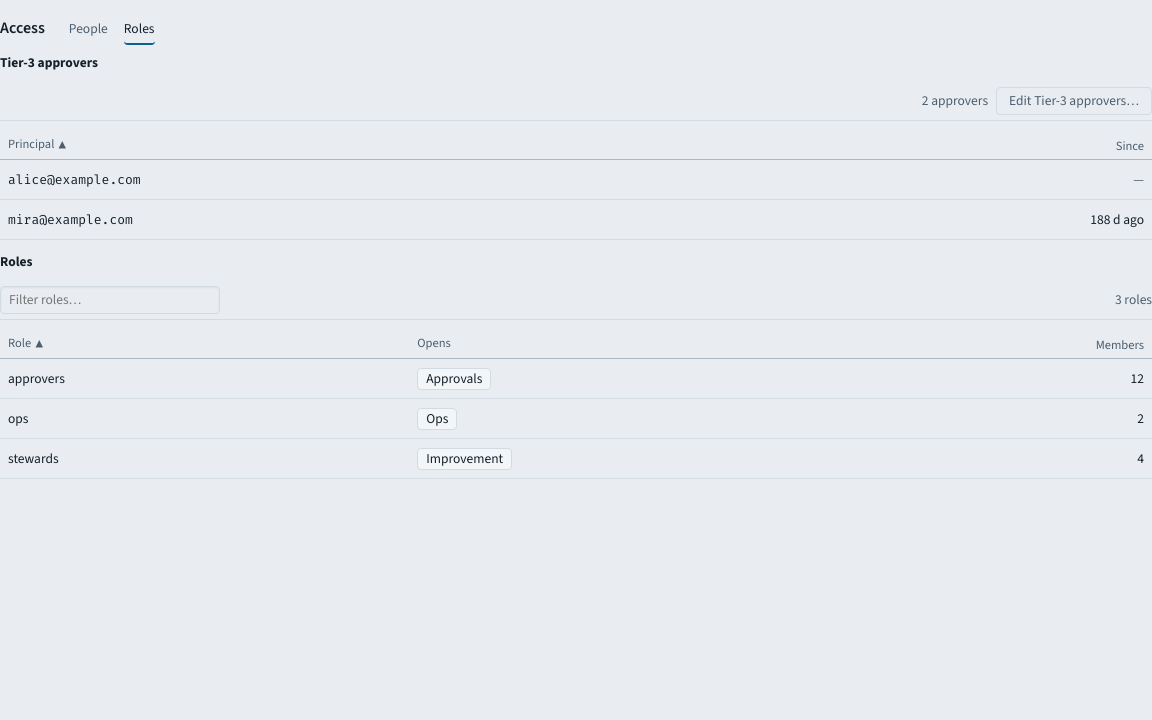
Scenario: §15 — the governed writes › renders pending only after the authoritative Tier-3 reread serves it
The image size is (1152, 720).
Expected: the element "Tier-3 approvers" is shown, [0,53,1151,240]
Expected: the text "PENDING" is not shown
Click the button "Edit Tier-3 approvers…" at (1074,100), box [996,86,1151,114]
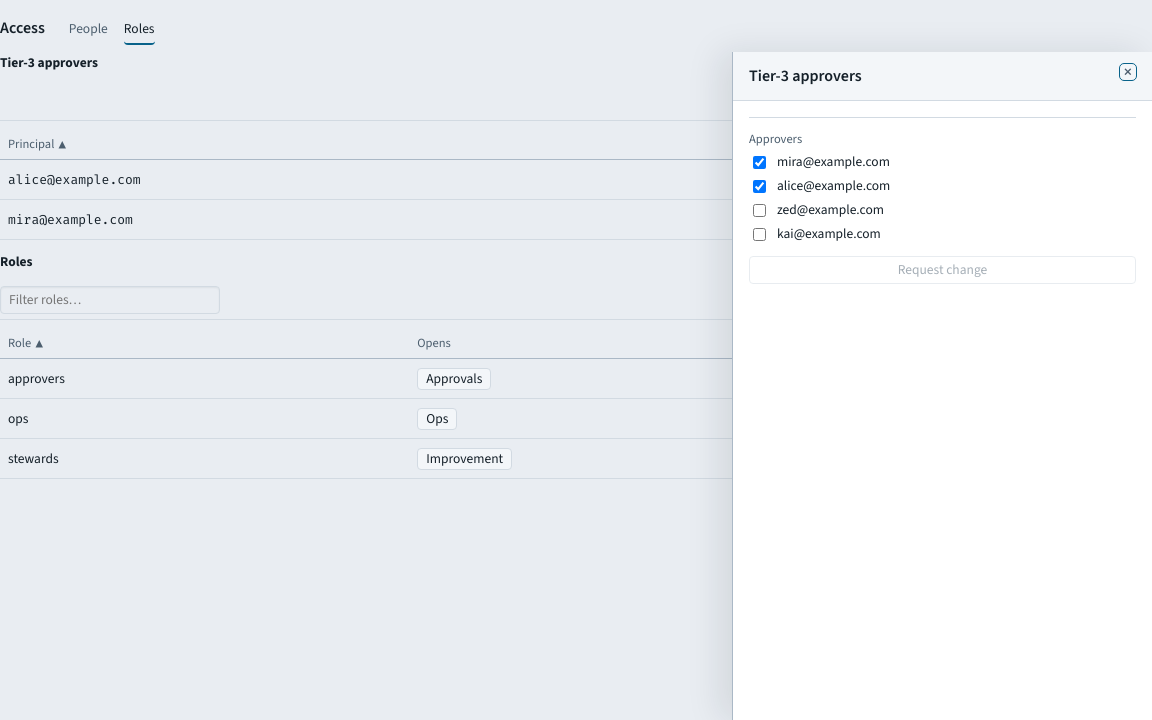
Click the checkbox labelled "kai@example.com" at (760,234), box [753,228,766,240]
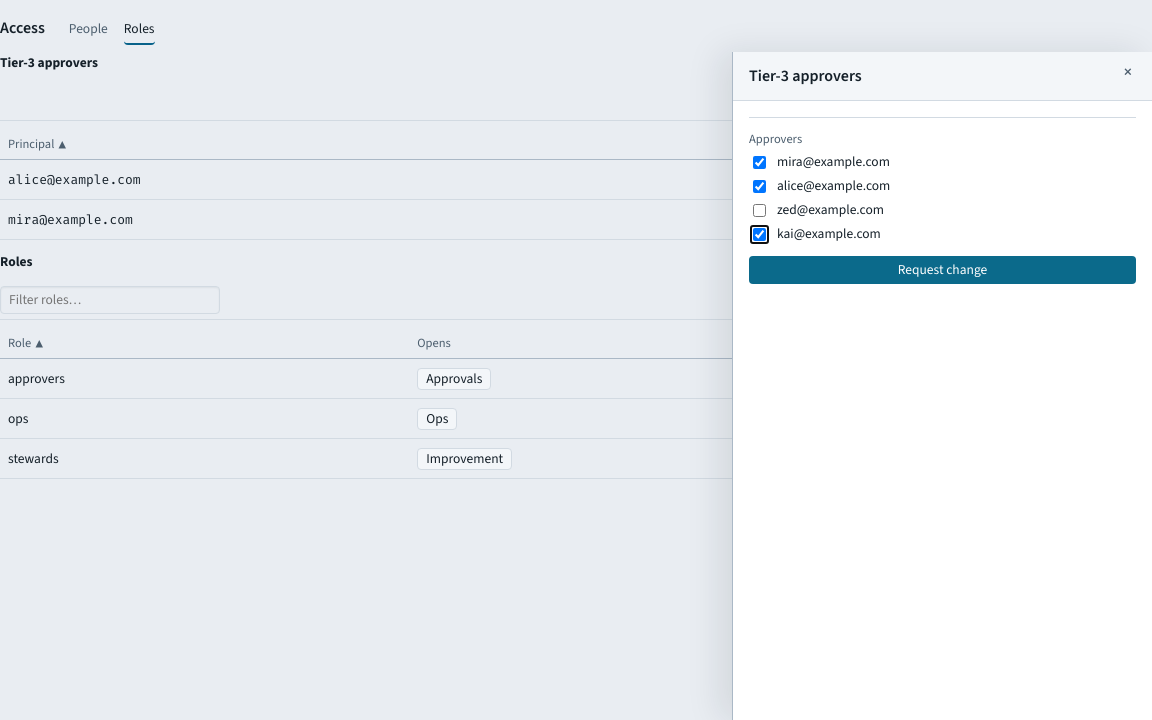
Click the button "Request change" at (942,270), box [749,256,1136,284]
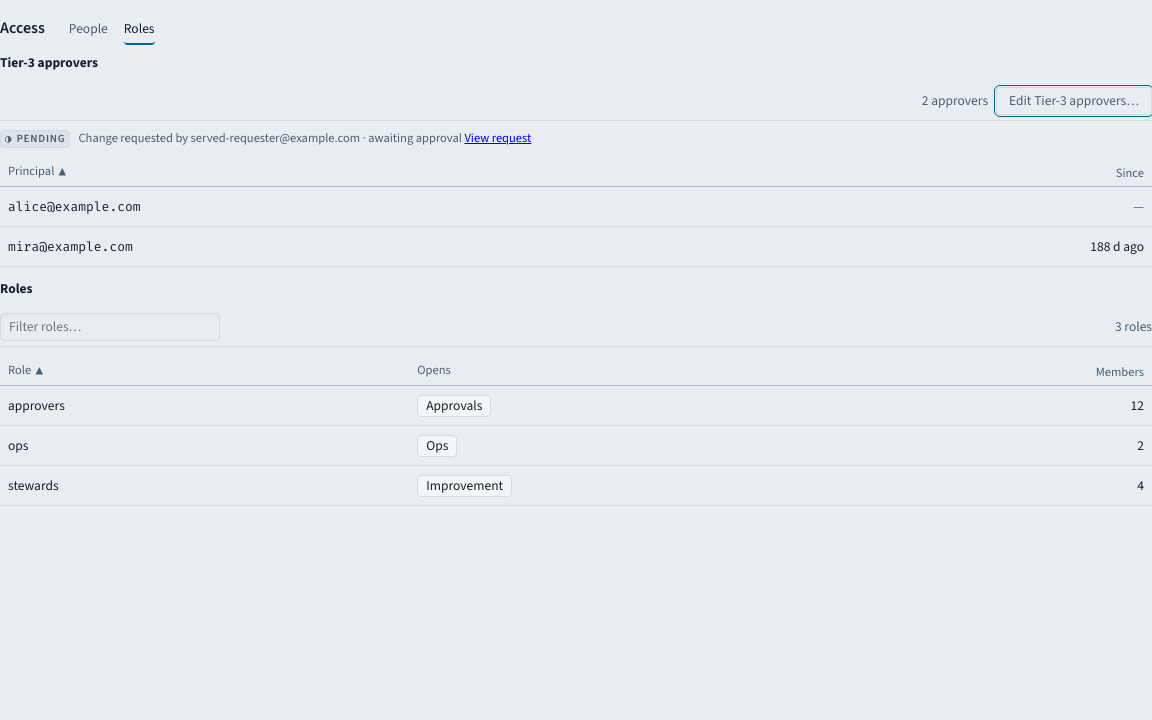
Expected: the element "Tier-3 approvers" does not show "req-response-only", [0,53,1151,267]
Expected: the text "Change requested by served-requester@example.com" is shown, [78,129,531,147]
Expected: the text "kai@example.com" is gone
